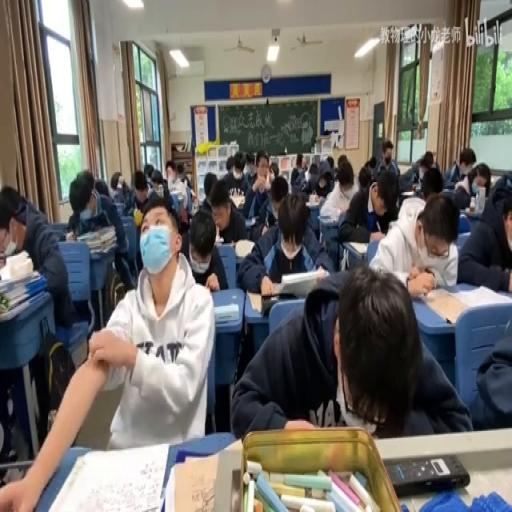calculator: (42, 441, 170, 510), (168, 453, 222, 512), (448, 283, 507, 310), (245, 286, 293, 316), (280, 268, 322, 284), (214, 301, 239, 323), (233, 238, 254, 258), (347, 239, 369, 253), (318, 214, 336, 224), (463, 206, 481, 216), (169, 192, 178, 210), (306, 199, 320, 209), (401, 189, 416, 198), (388, 219, 398, 230), (214, 234, 223, 244), (249, 216, 256, 225)
paper: (231, 263, 466, 438), (98, 195, 214, 448), (0, 181, 82, 465), (234, 186, 330, 292), (64, 171, 128, 304), (456, 175, 512, 291), (469, 306, 510, 428), (339, 165, 395, 245), (181, 206, 228, 292), (126, 171, 162, 263), (160, 165, 191, 232), (0, 186, 27, 260), (443, 145, 478, 195), (220, 149, 251, 205), (374, 141, 400, 185), (420, 165, 443, 199), (299, 160, 319, 194), (116, 183, 137, 212), (254, 154, 270, 186), (202, 171, 217, 203), (270, 192, 286, 219), (358, 164, 371, 189), (94, 178, 110, 198), (108, 171, 122, 192), (419, 150, 433, 170), (165, 159, 176, 181), (176, 160, 186, 184), (144, 160, 154, 184), (245, 150, 254, 176), (364, 155, 377, 171), (290, 166, 299, 186), (316, 181, 328, 196), (269, 160, 278, 178), (317, 194, 326, 210), (183, 175, 193, 189), (337, 154, 346, 169), (226, 154, 234, 170), (294, 154, 302, 169), (326, 155, 334, 169), (332, 165, 338, 181), (301, 158, 307, 169)
person: (385, 452, 470, 496)
